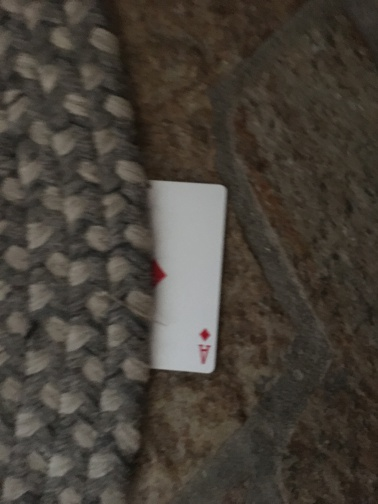ace: (142, 180, 226, 373)
